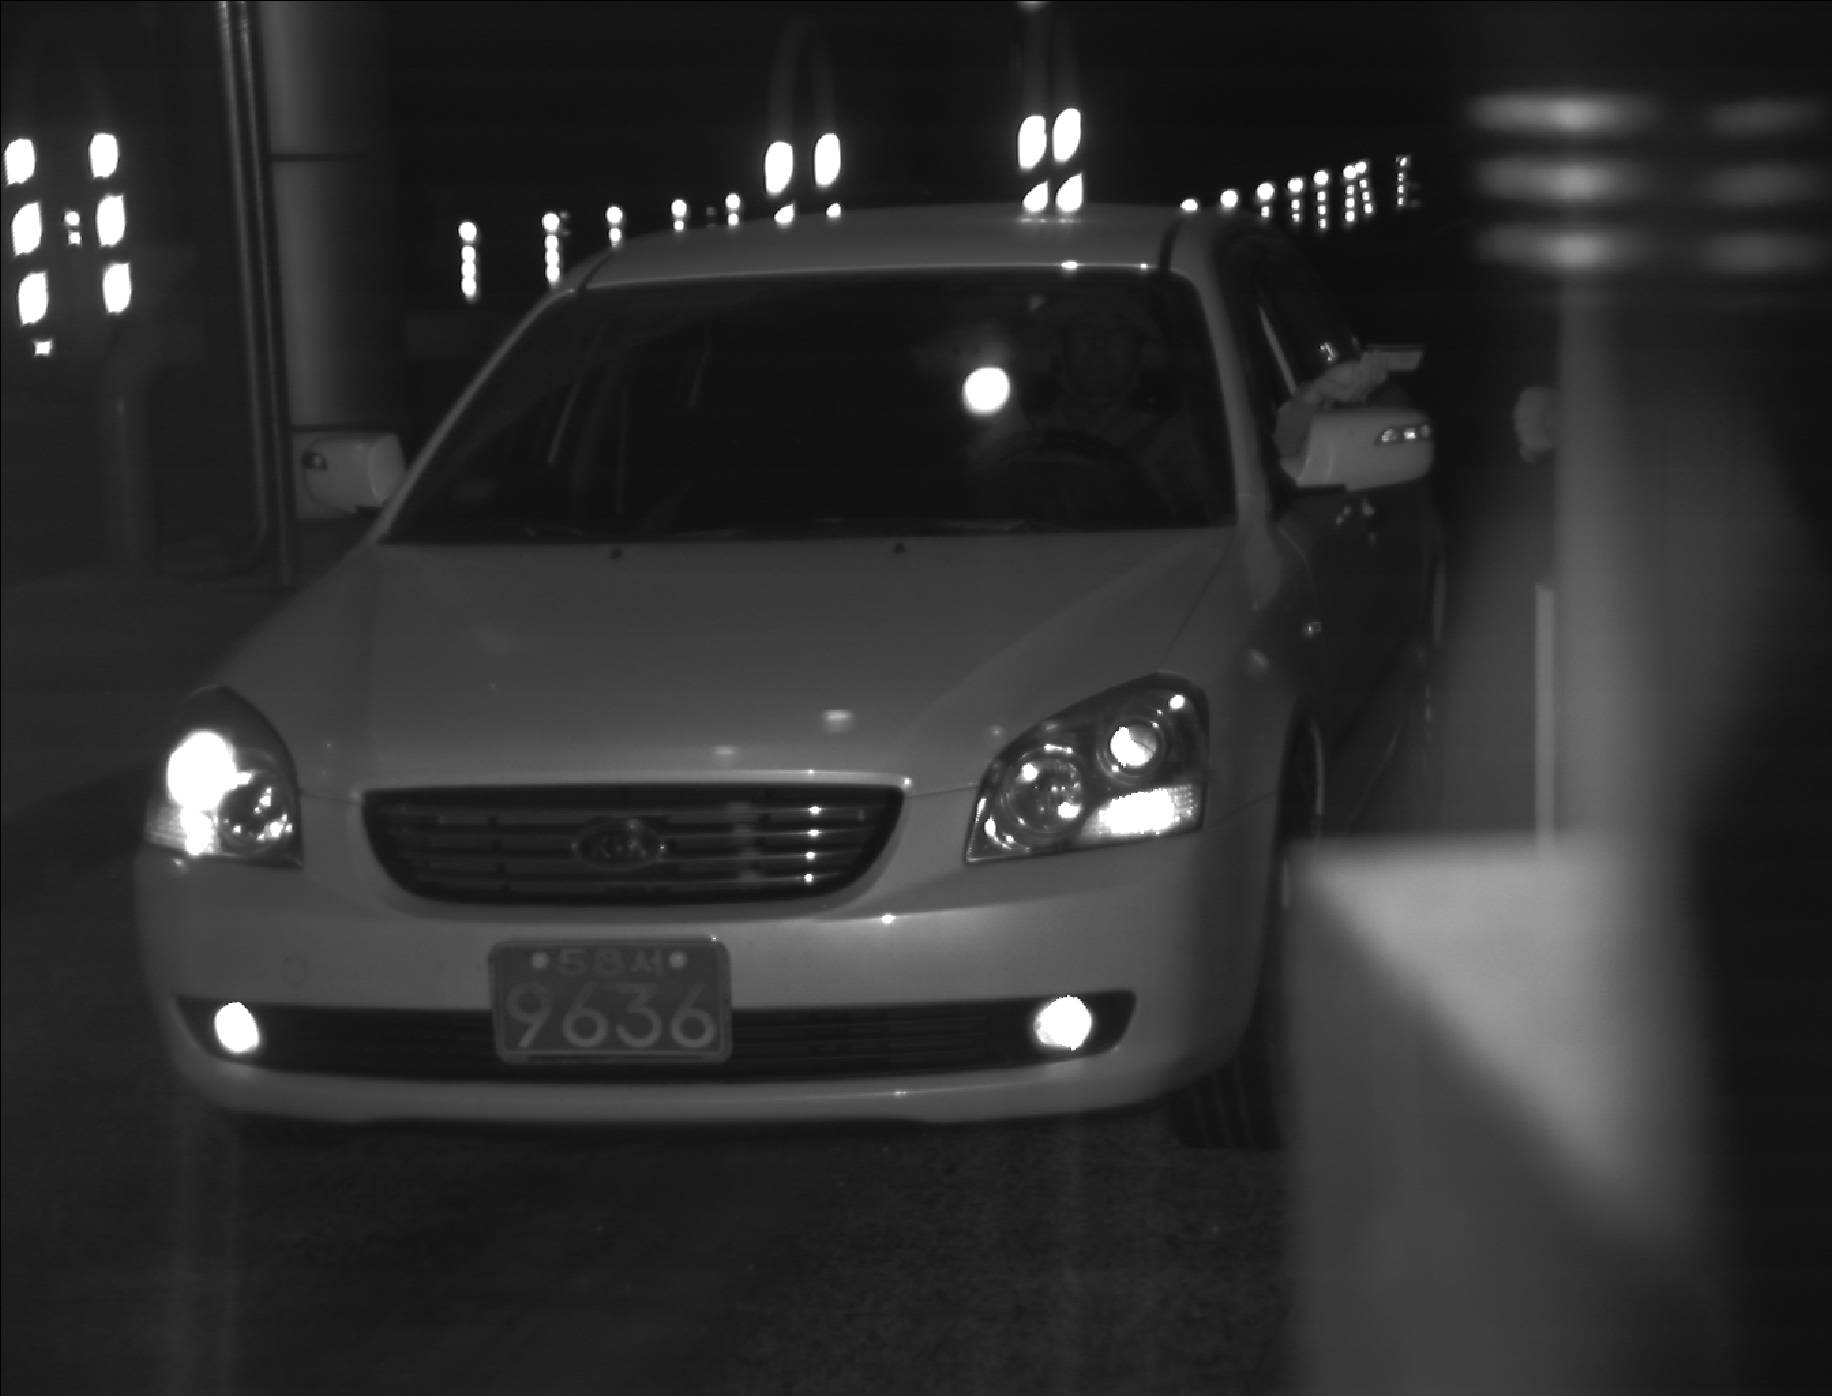car: (138, 204, 1286, 1170)
plate: (482, 935, 734, 1062)
